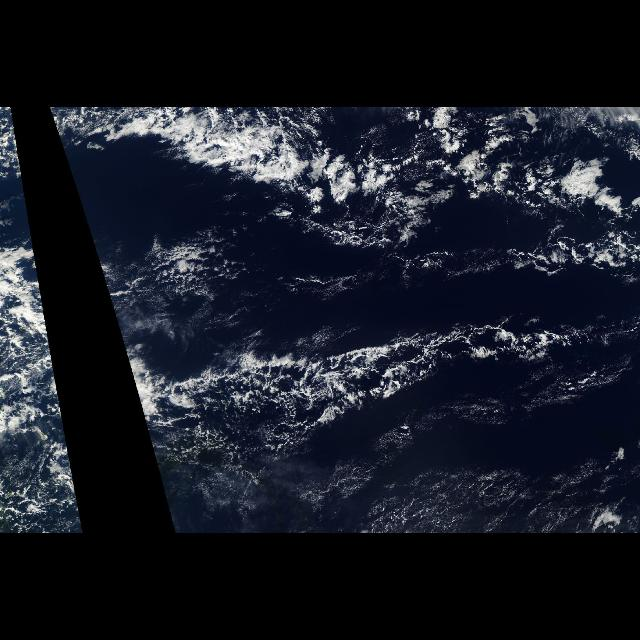Fish: (45, 108, 640, 496), (1, 245, 66, 443)
Sugar: (292, 464, 628, 530)
